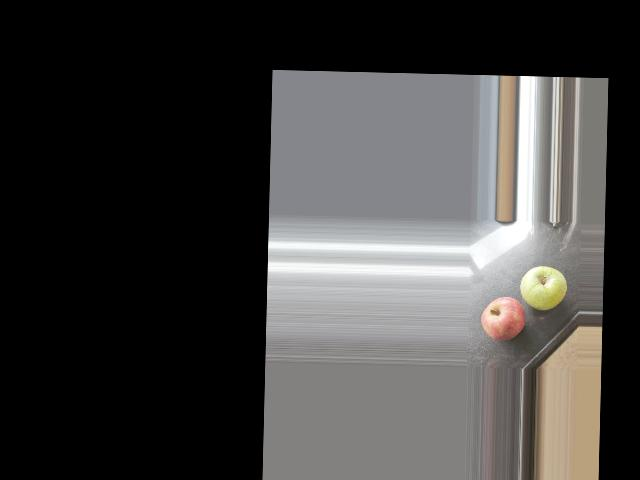apple: (479, 294, 523, 343)
